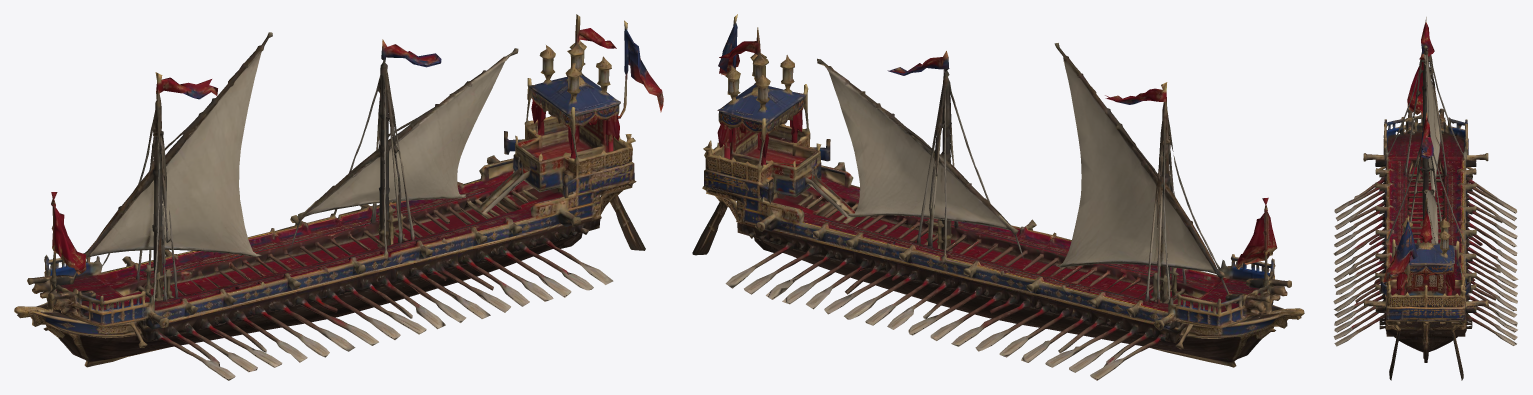
The model's file is pasa-bastardasi-komuta-gemisi-1550-1600-tripo-v2.glb.
The picture shows the model from 3 angles, left to right: view 1: azimuth 30°, elevation 25°; view 2: azimuth 150°, elevation 25°; view 3: azimuth 270°, elevation 25°; orthographic projection. The views are drawn at different scales.
Visible parts, largest first — view 1: tripo_node_1f8cb9cd-547d-45f9-a427-68e69b6b832e; view 2: tripo_node_1f8cb9cd-547d-45f9-a427-68e69b6b832e; view 3: tripo_node_1f8cb9cd-547d-45f9-a427-68e69b6b832e.
Part boxes in pixels (<box>): tripo_node_1f8cb9cd-547d-45f9-a427-68e69b6b832e: <box>14,14,663,380</box>; tripo_node_1f8cb9cd-547d-45f9-a427-68e69b6b832e: <box>692,14,1304,380</box>; tripo_node_1f8cb9cd-547d-45f9-a427-68e69b6b832e: <box>1333,17,1518,380</box>.
Size of the model in its own units: 1 by 0.4492 by 0.3514.
Materials: 1 (1 with a texture image).
